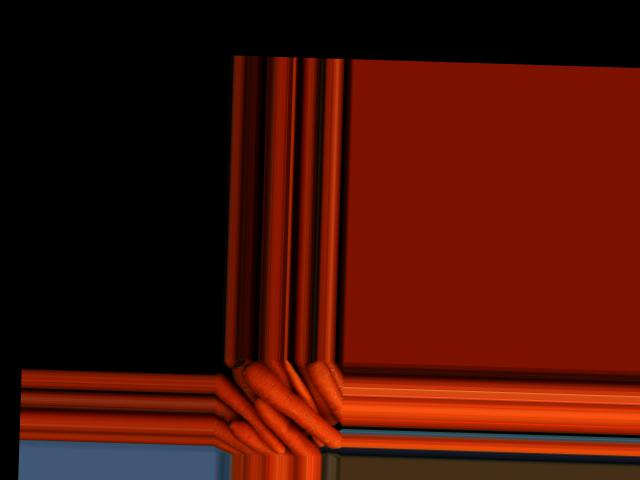carrot: (212, 381, 284, 451)
